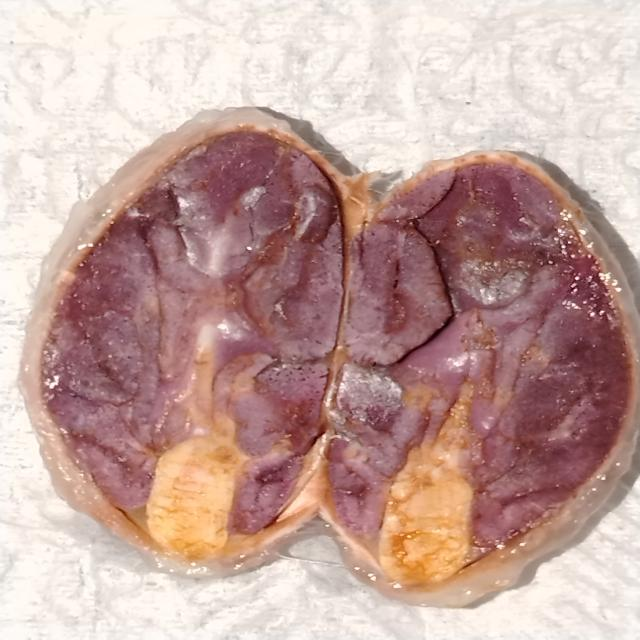Forastero: (324, 157, 636, 592), (43, 123, 350, 563)
